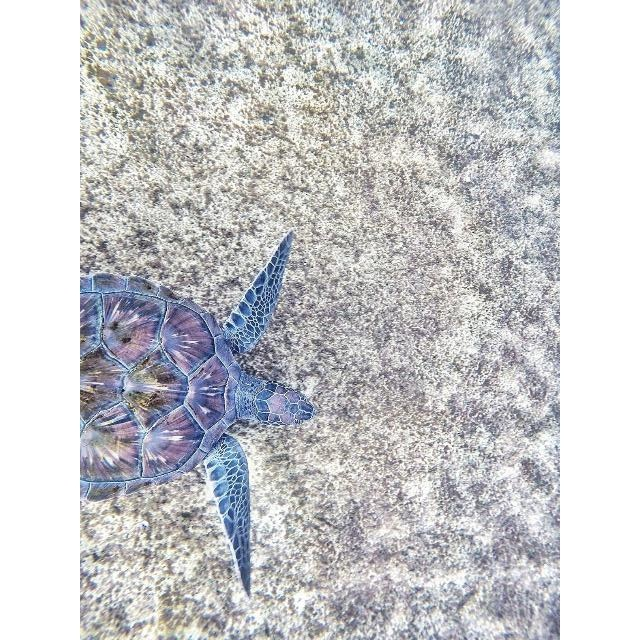turtle: (82, 231, 315, 595)
